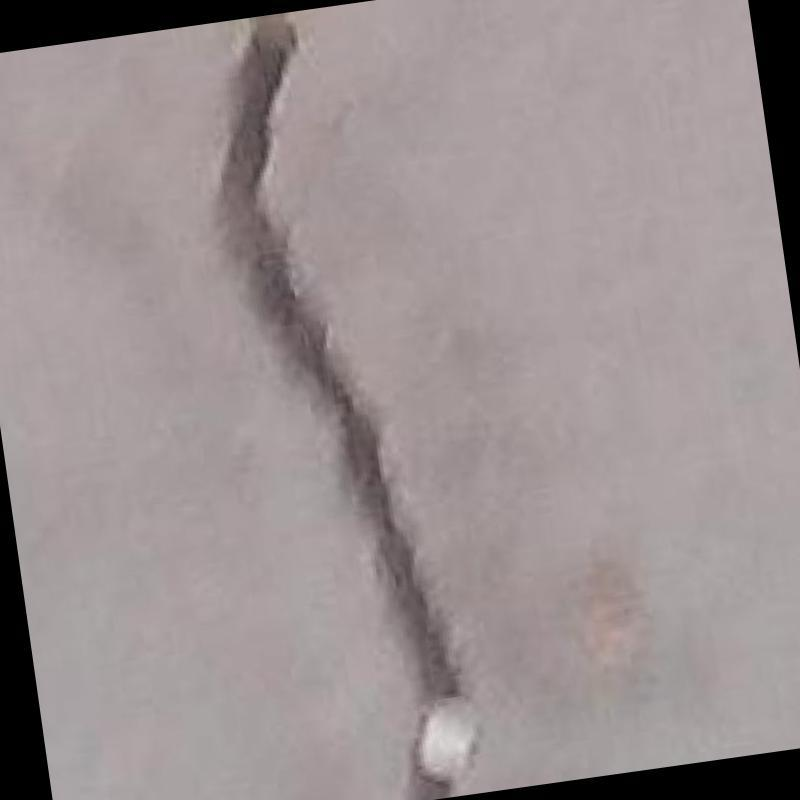pothole: (221, 12, 476, 798)
